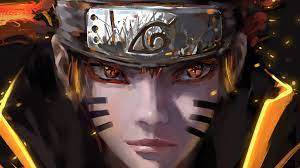Naruto: (50, 2, 245, 168)
